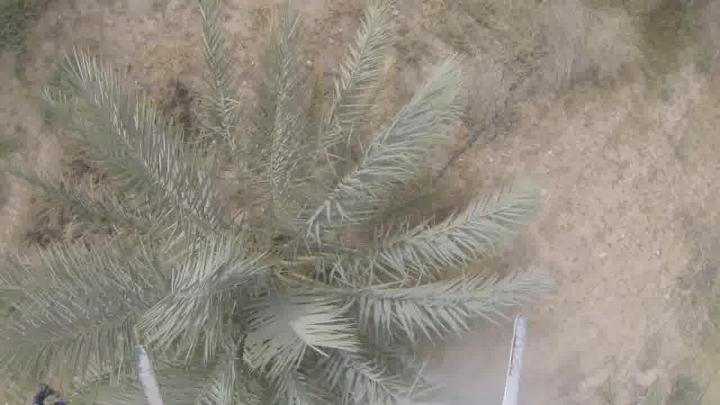Date-Palm-Crown: (122, 87, 455, 405)
